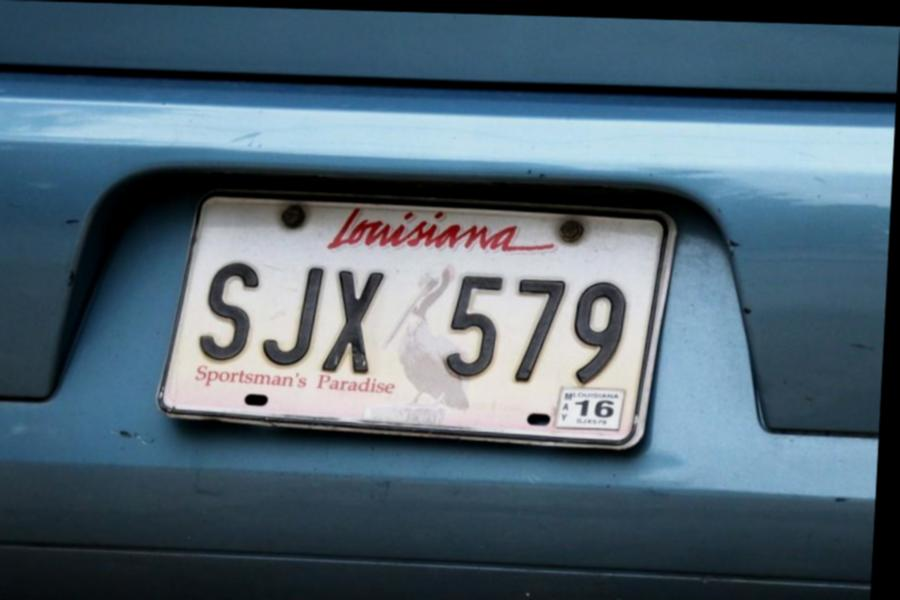License_Plate: (185, 190, 647, 418)
